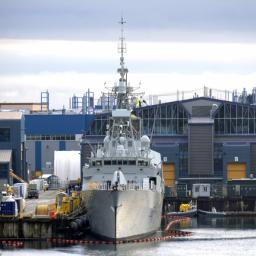Fragata: (77, 10, 168, 246)
